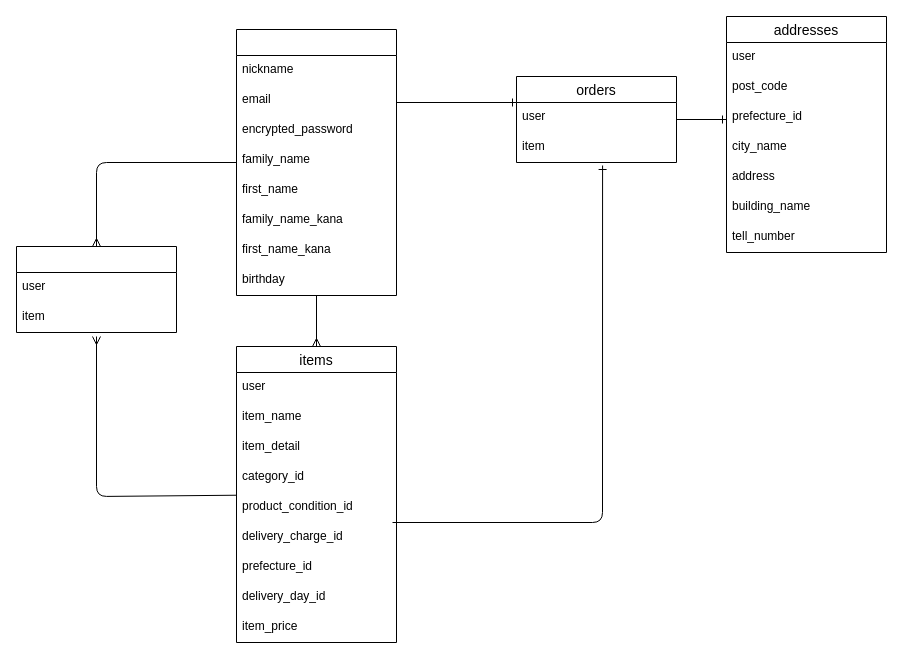
This 903x659 diagram has some shape labels left out. Each missing label, with the box of its shape:
comments: (16, 246, 176, 332)
users: (236, 28, 396, 296)
